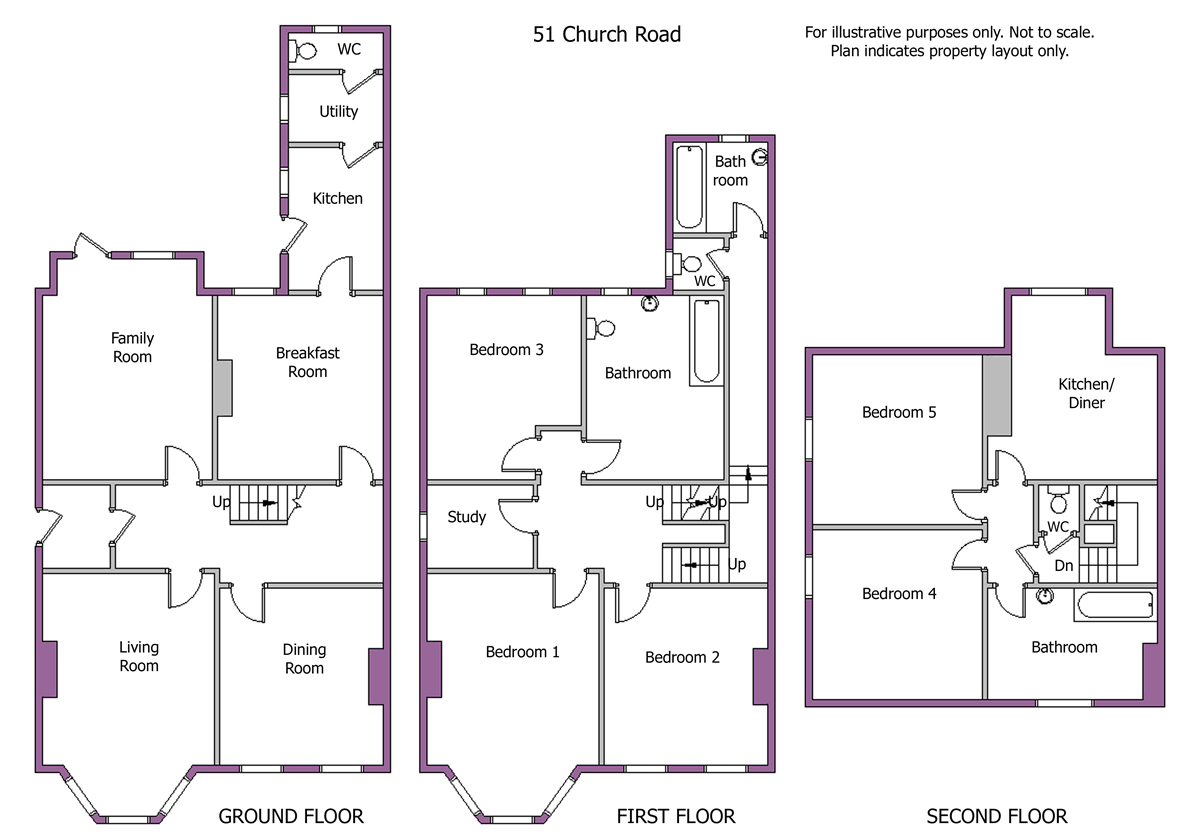door: (162, 441, 201, 481), (166, 570, 205, 610), (230, 589, 269, 629), (335, 440, 374, 480), (494, 435, 533, 475), (584, 435, 623, 475), (496, 494, 535, 534), (550, 572, 589, 612), (612, 587, 651, 627), (317, 251, 356, 291), (728, 193, 767, 233), (946, 535, 985, 575), (991, 584, 1030, 624), (946, 486, 985, 526), (990, 440, 1029, 480)
